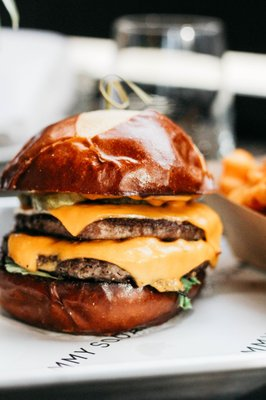soup: (0, 107, 224, 335)
